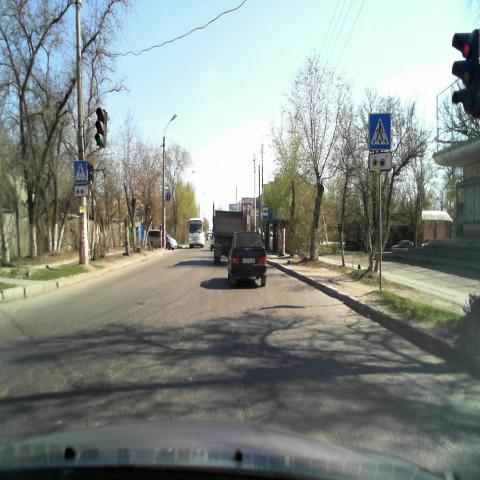8_15: (369, 152, 392, 172), (74, 185, 89, 199)
